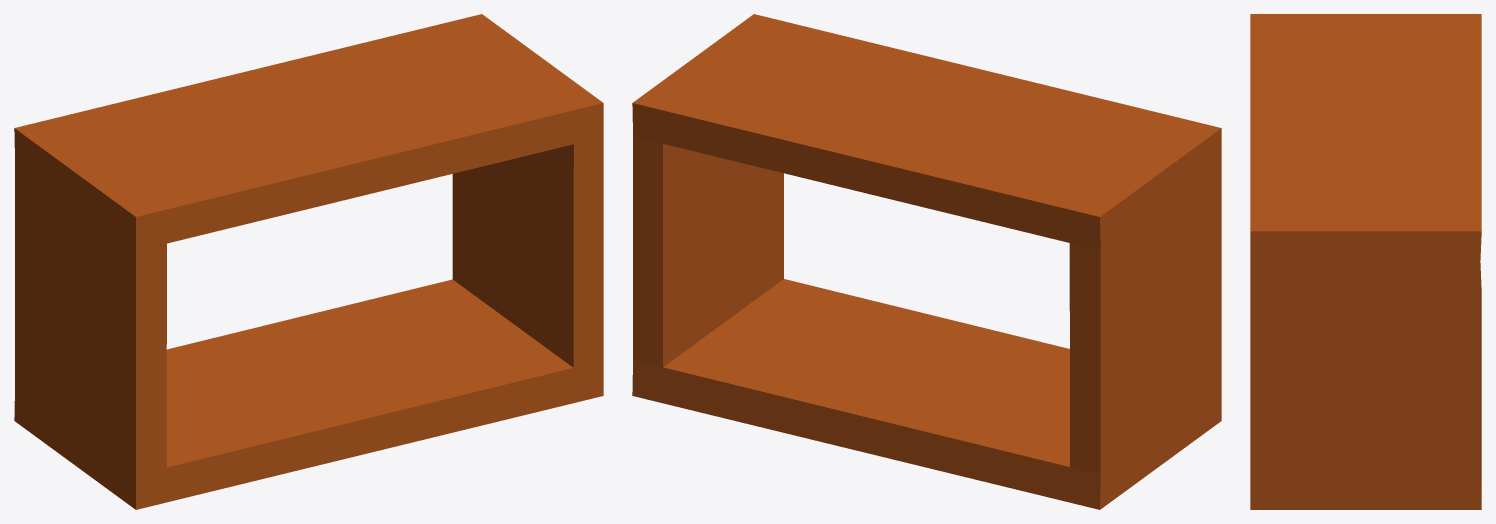
File: rectangle table copper.glb
3 views of the same model, side by side, from view 1: azimuth 30°, elevation 25°; view 2: azimuth 150°, elevation 25°; view 3: azimuth 270°, elevation 25° (orthographic). The views are drawn at different scales.
Visible parts, largest first — view 1: rectangle table copper; view 2: rectangle table copper; view 3: rectangle table copper.
Boxes of the visible parts, x1,y1,x2,y2 form: rectangle table copper: (14,14,603,509); rectangle table copper: (632,14,1221,509); rectangle table copper: (1250,14,1481,509).
Bounding box in the file's own units: 1.55 × 0.9304 × 0.7.
